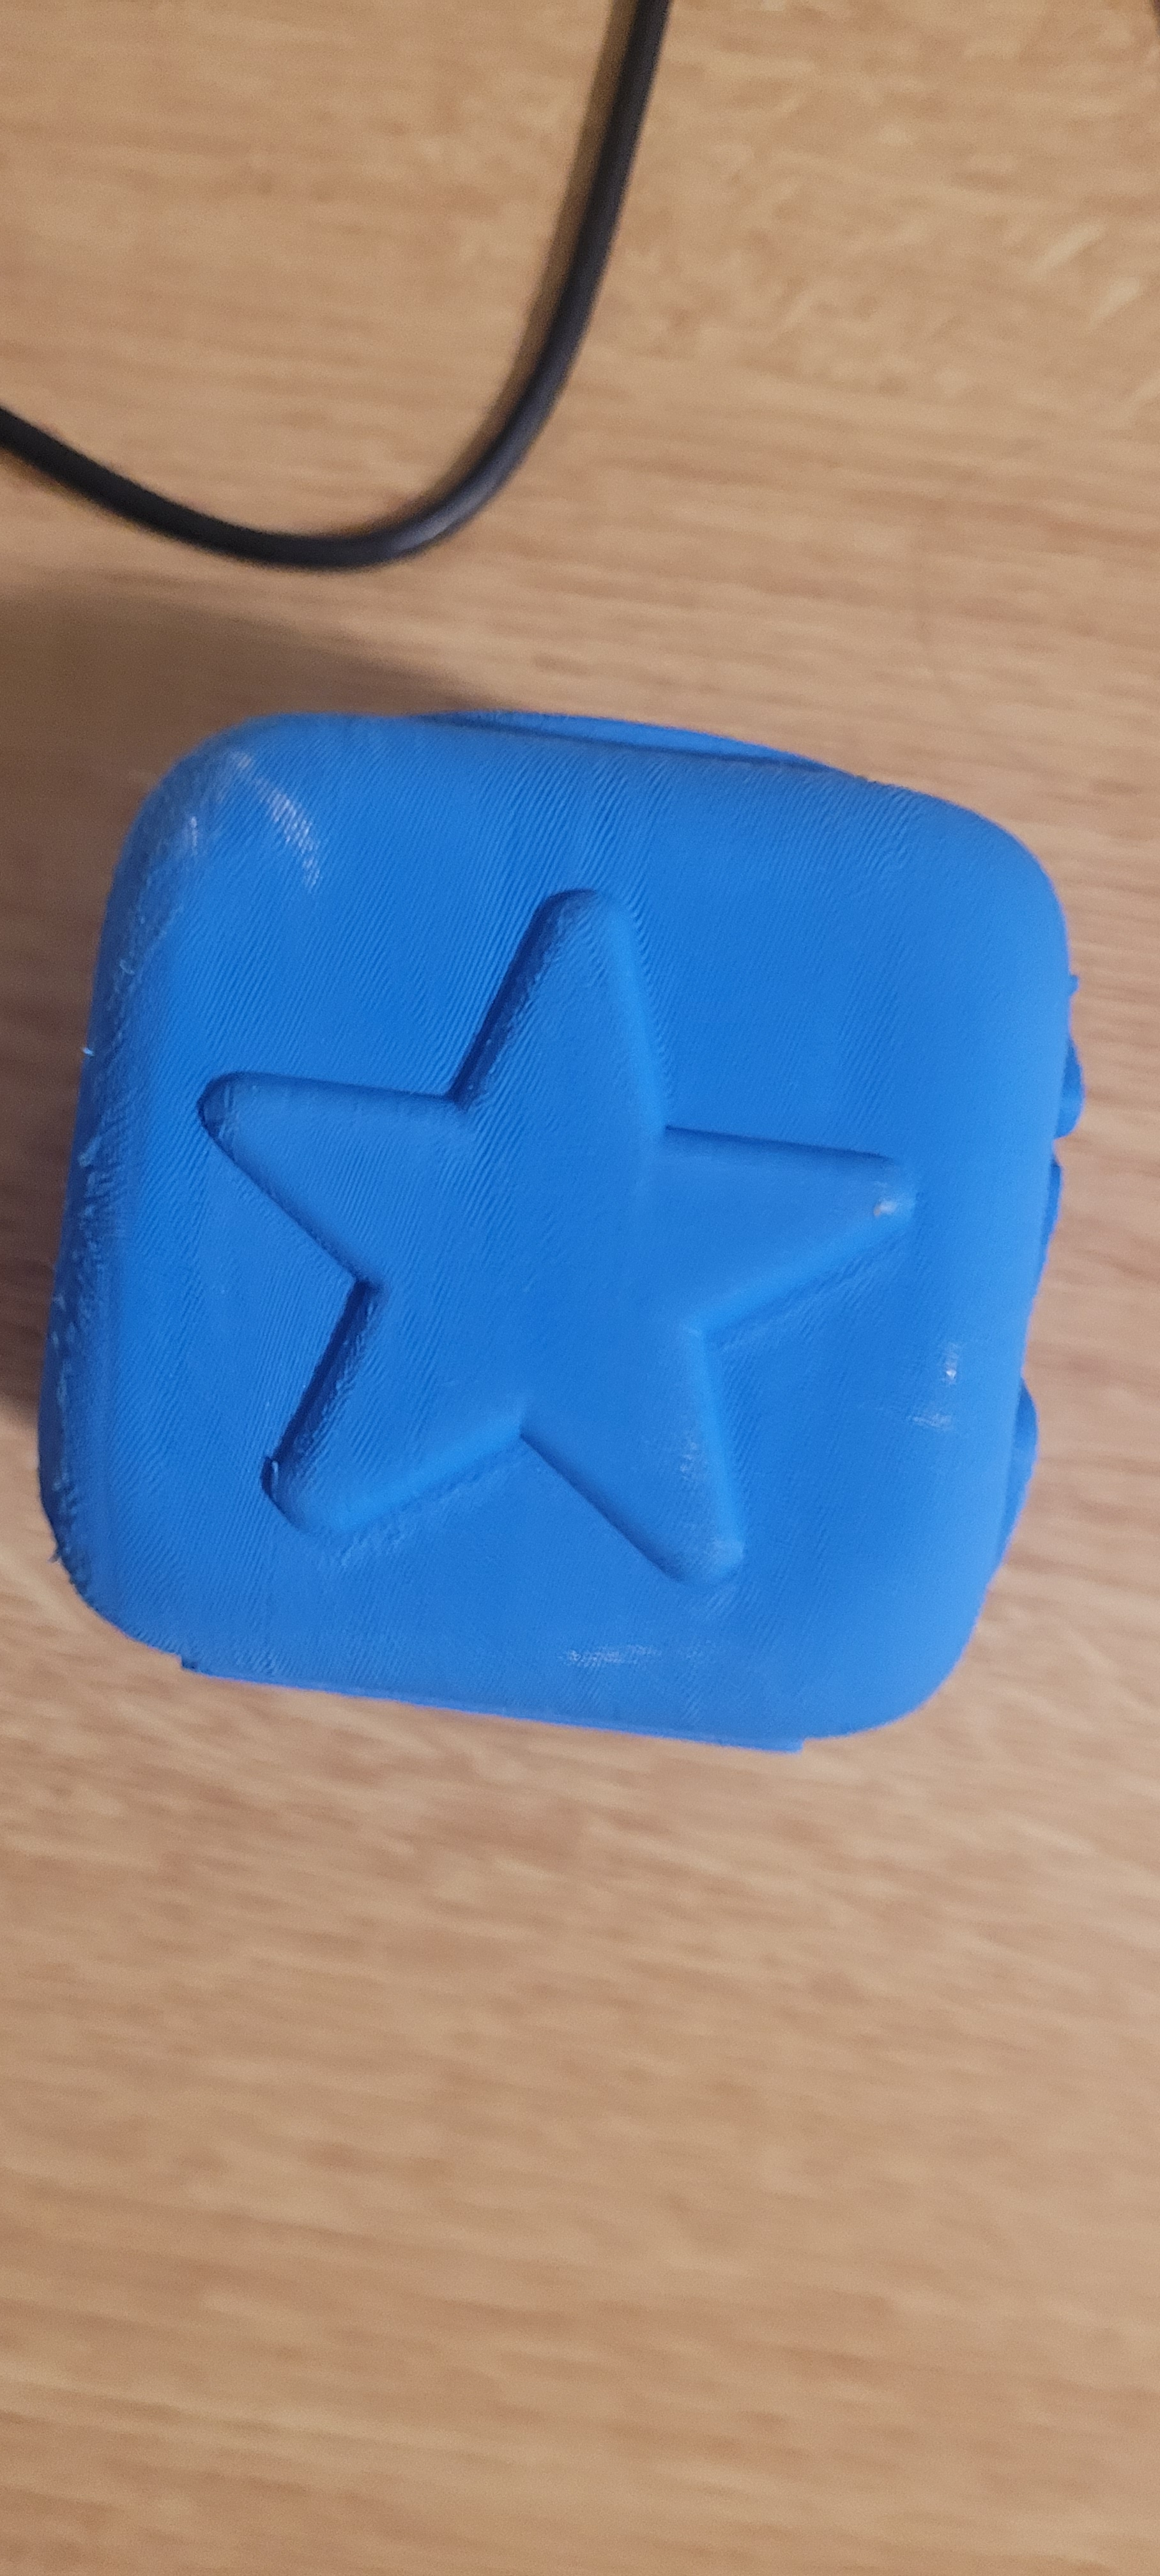Star: (158, 708, 973, 1666)
